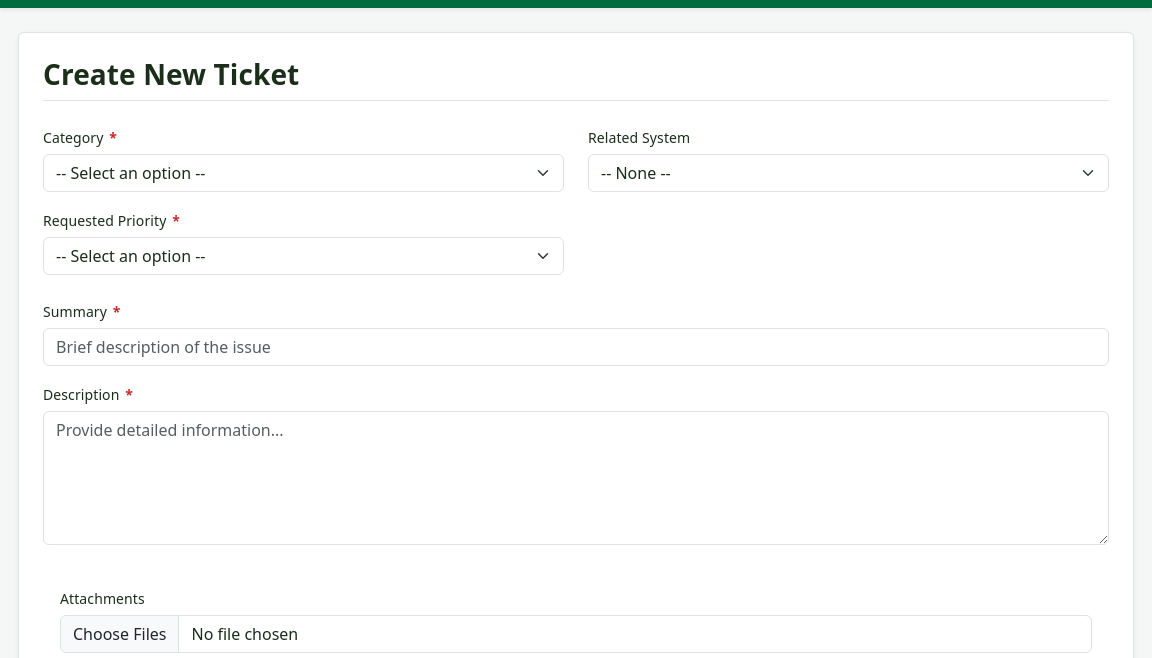
Create Ticket Feature › submits successfully using FormData and shows ticket number, and allows creating another ticket
Select "Hardware" in the dropdown labelled "Category *" at (304, 173), box [43,154,564,192]
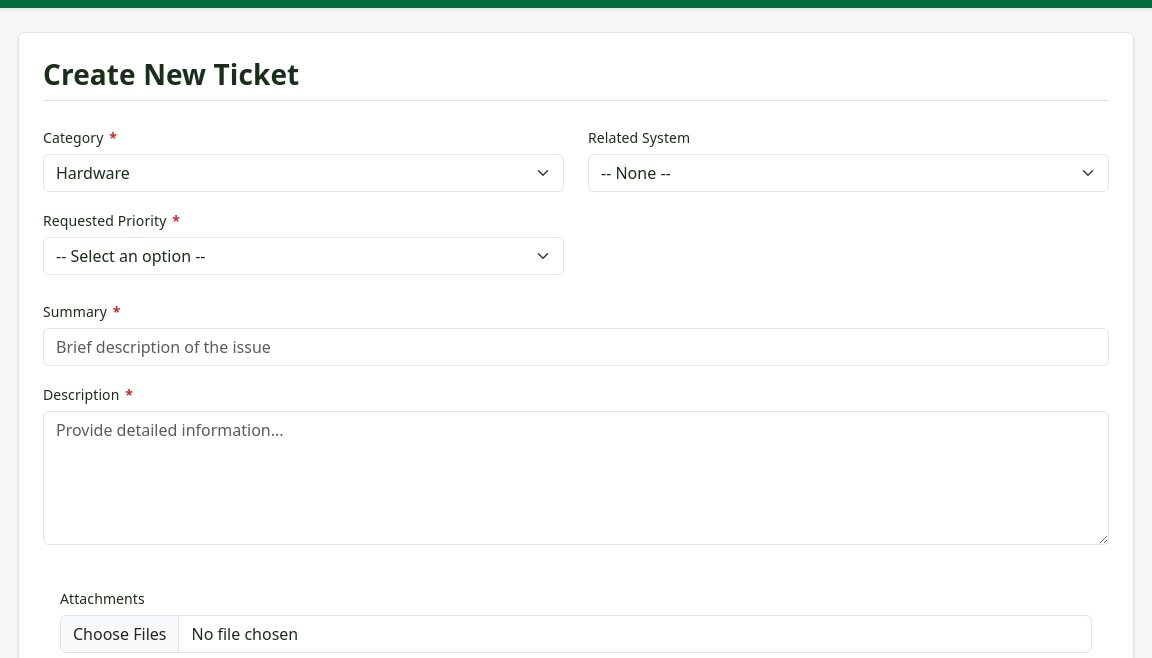
Select "Low" in the dropdown labelled "Requested Priority *" at (304, 256), box [43,237,564,275]
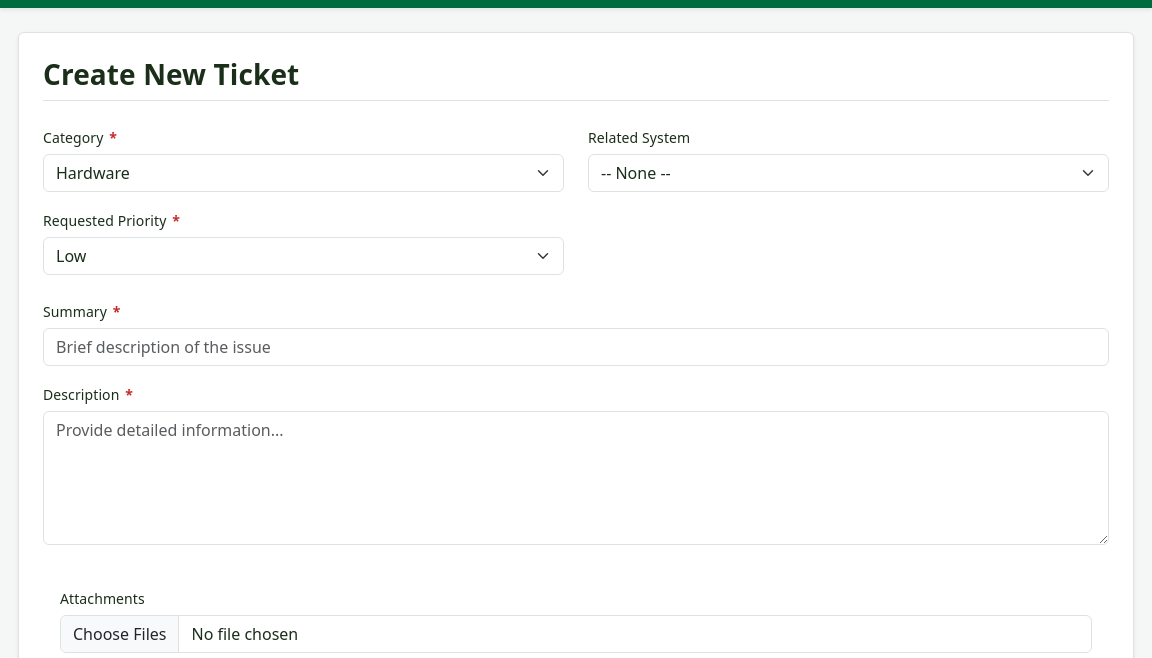
Type "My issue summary" into the field labelled "Summary *" at (576, 347), box [43,328,1109,366]
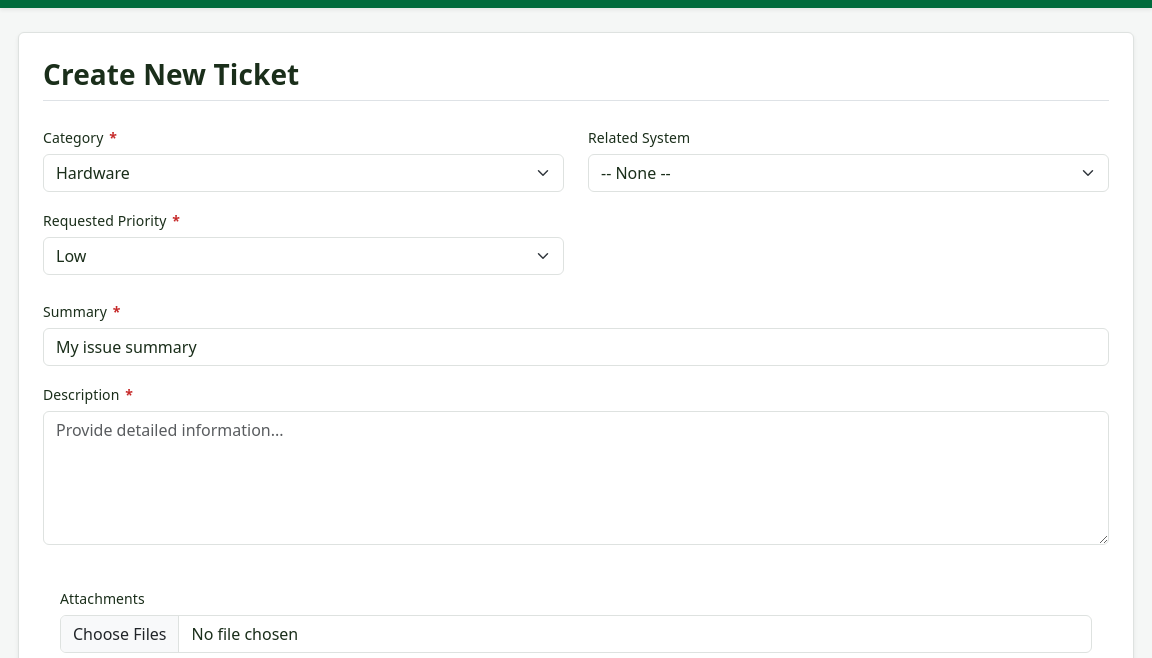
Type "Detailed description of the issue" into the text box labelled "Description *" at (576, 478), box [43,411,1109,545]
(page scrolled)
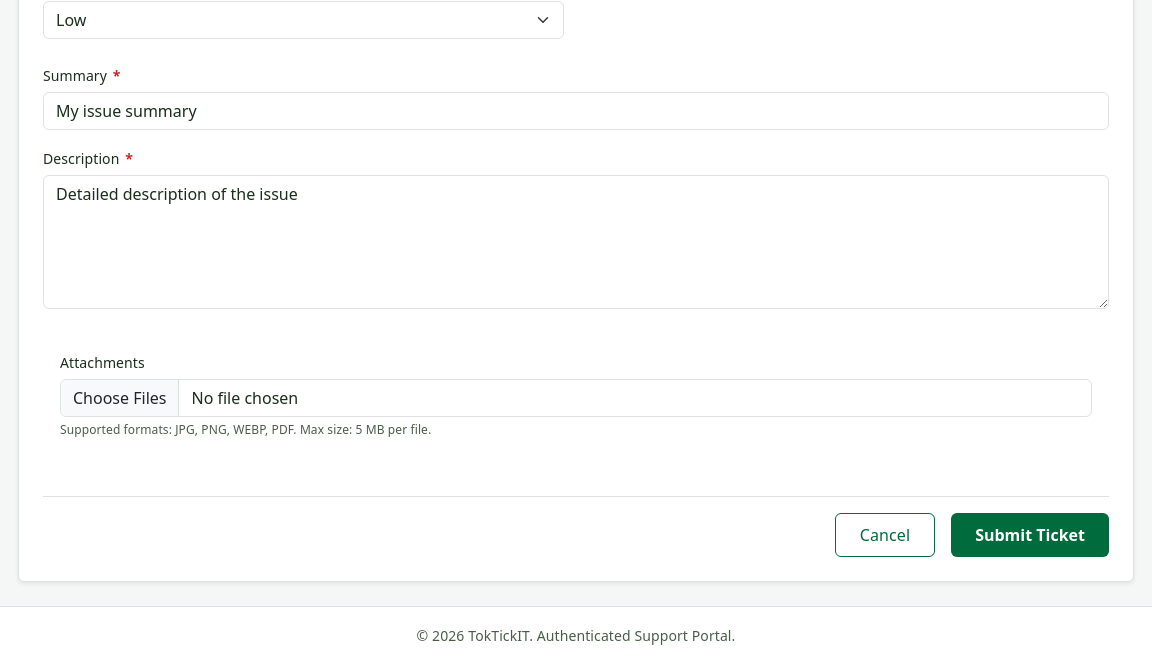
Click the button "Submit Ticket" at (1030, 535), box [951,513,1109,557]
(page scrolled)
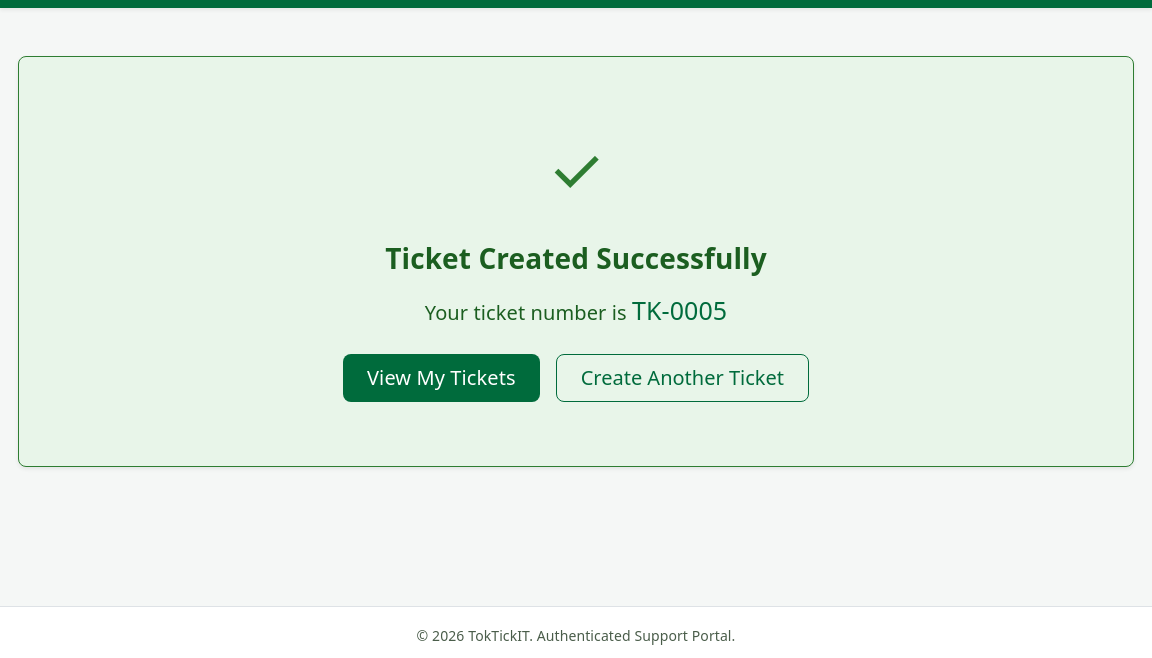
Check: the heading "Ticket Created Successfully" is shown, box [385,239,767,277]
Check: the text "TK-0005" is shown, box [632,293,727,327]
Check: the link "View My Tickets" is shown, box [343,354,540,402]
Note: Click Create Another Ticket to verify form reset
Click the button "Create Another Ticket" at (682, 378), box [556,354,809,402]
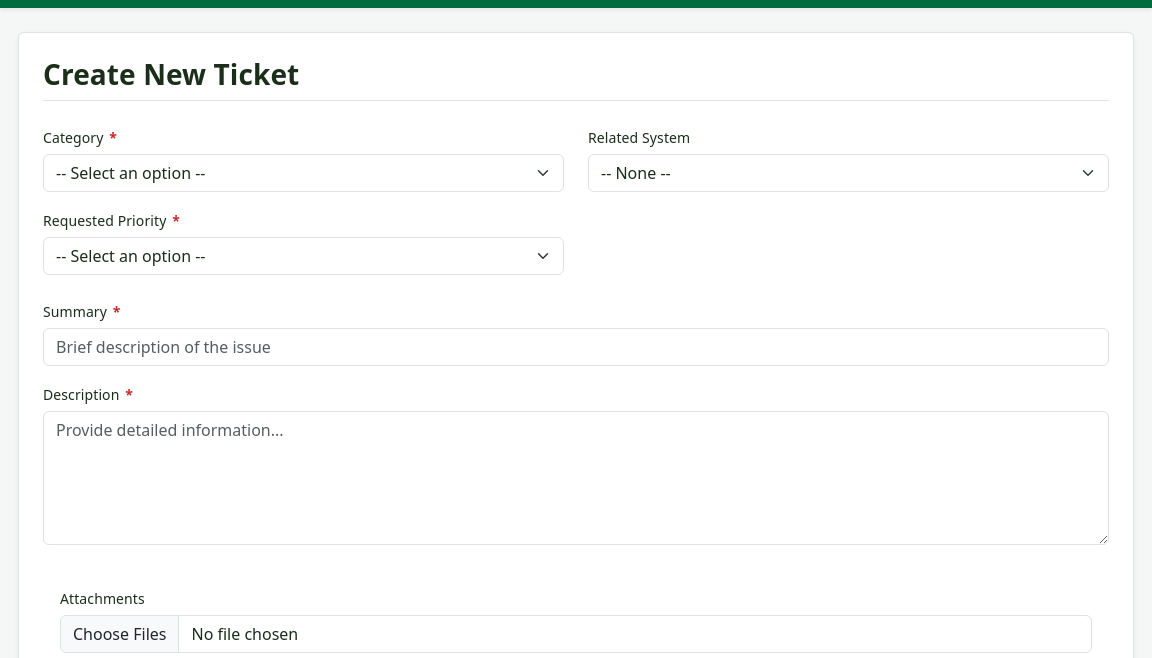
Check: the dropdown labelled "Category *" is shown, box [43,154,564,192]
Check: the field labelled "Summary *" is empty, box [43,328,1109,366]
Check: the dropdown labelled "Requested Priority *" shows "-- Select an option --", box [43,237,564,275]
